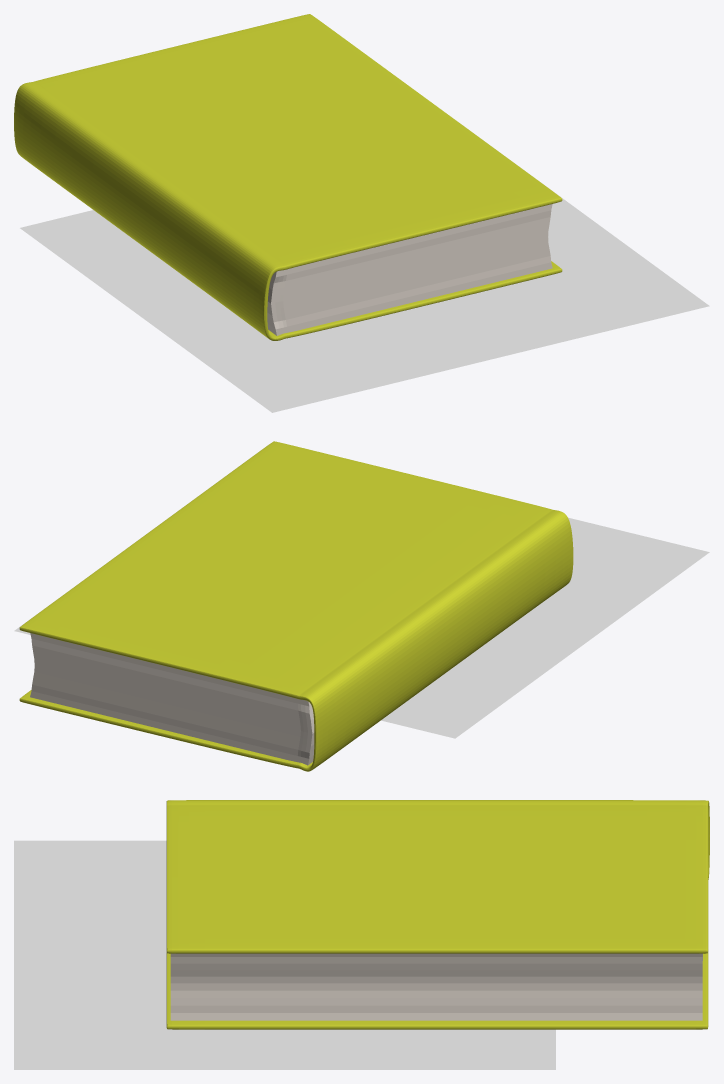
Rendered from libro amarillo pegado.fbx.
The picture shows the model from 3 angles, top to bottom: view 1: azimuth 30°, elevation 25°; view 2: azimuth 150°, elevation 25°; view 3: azimuth 270°, elevation 25°; orthographic projection. The views are drawn at different scales.
Parts seen in each view (by area): view 1: Plane.001, Plane; view 2: Plane.001, Plane; view 3: Plane.001, Plane.
Boxes of the visible parts, left/top/right/bottom form: Plane.001: left=14, top=14, right=562, bottom=340; Plane: left=20, top=159, right=709, bottom=412; Plane.001: left=19, top=441, right=573, bottom=771; Plane: left=14, top=445, right=709, bottom=738; Plane.001: left=166, top=800, right=709, bottom=1029; Plane: left=14, top=840, right=555, bottom=1069.
Size of the model in its own units: 200 by 32.89 by 257.
